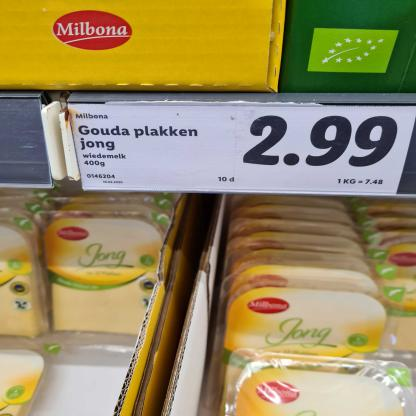prtg: (69, 105, 415, 197)
